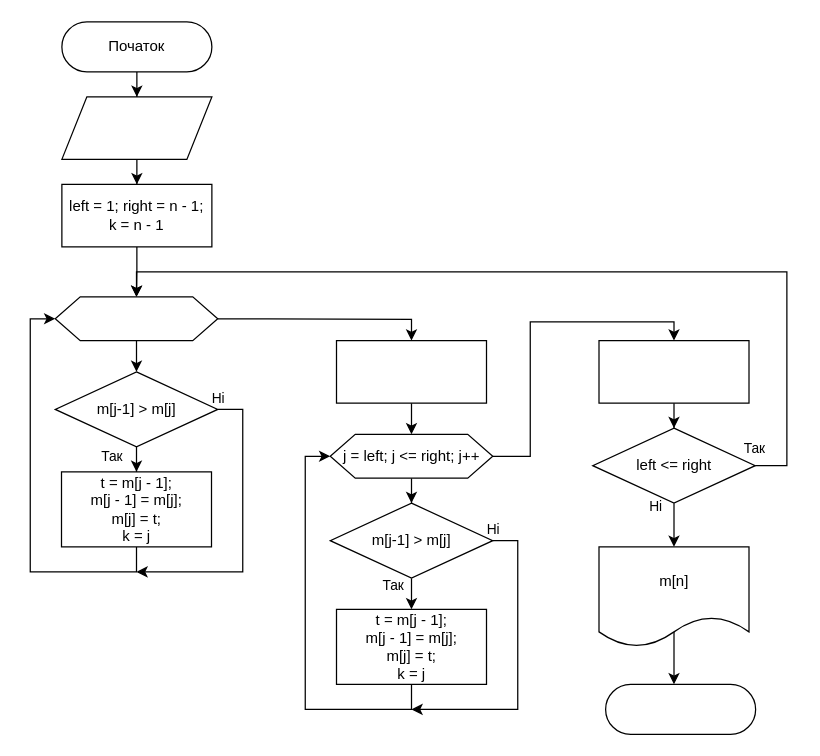
Some shapes in this 820 by 756 pixel diagram are drawn without their labels. The centre of each missing label's shape, as x and y in pixels:
"j = right; j >= left; j--" belongs at point 136,318.
"left = k + 1" belongs at point 410,371.
"n, m[n]" belongs at point 136,127.
"right = k - 1" belongs at point 673,371.
"Кінець" belongs at point 680,708.
